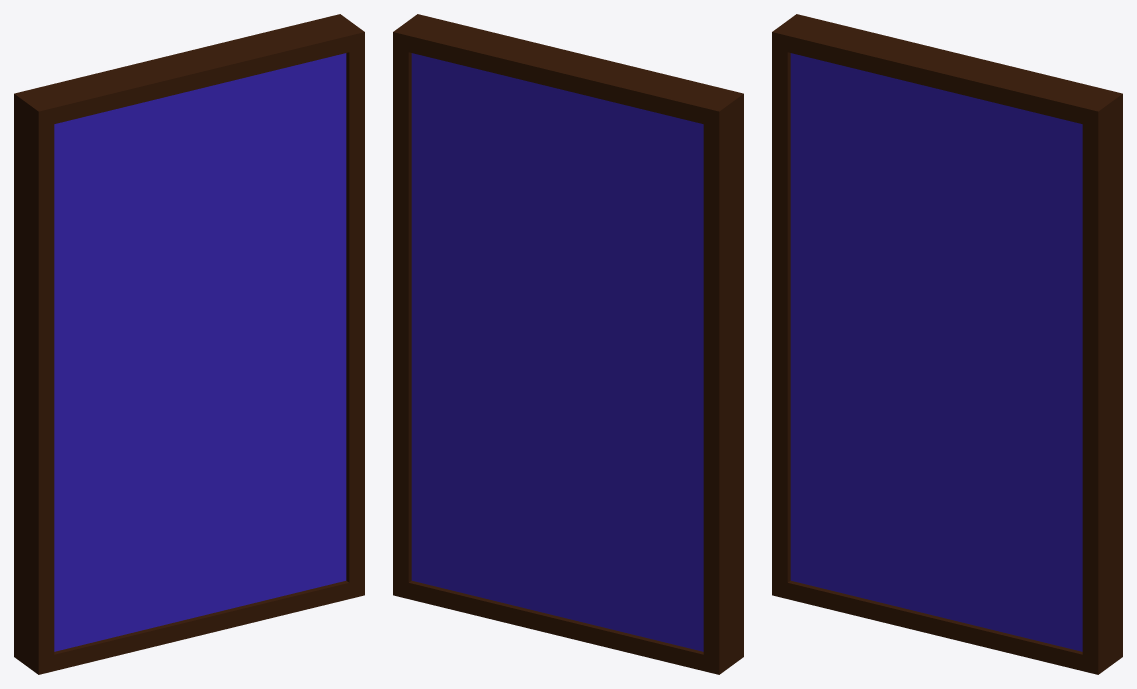
File: GlassWhole_01.fbx
3 views of the same model, side by side, from view 1: azimuth 30°, elevation 25°; view 2: azimuth 150°, elevation 25°; view 3: azimuth 330°, elevation 25° (orthographic).
Visible parts, largest first — view 1: Glass, Base; view 2: Glass, Base; view 3: Glass, Base.
Boxes of the visible parts, x1,y1,x2,y2 form: Glass: [54, 53, 346, 651]; Base: [14, 14, 364, 674]; Glass: [411, 53, 703, 651]; Base: [393, 14, 743, 674]; Glass: [790, 53, 1082, 651]; Base: [772, 14, 1122, 674].
Bounding box in the file's own units: 8000 × 13200 × 1045.
